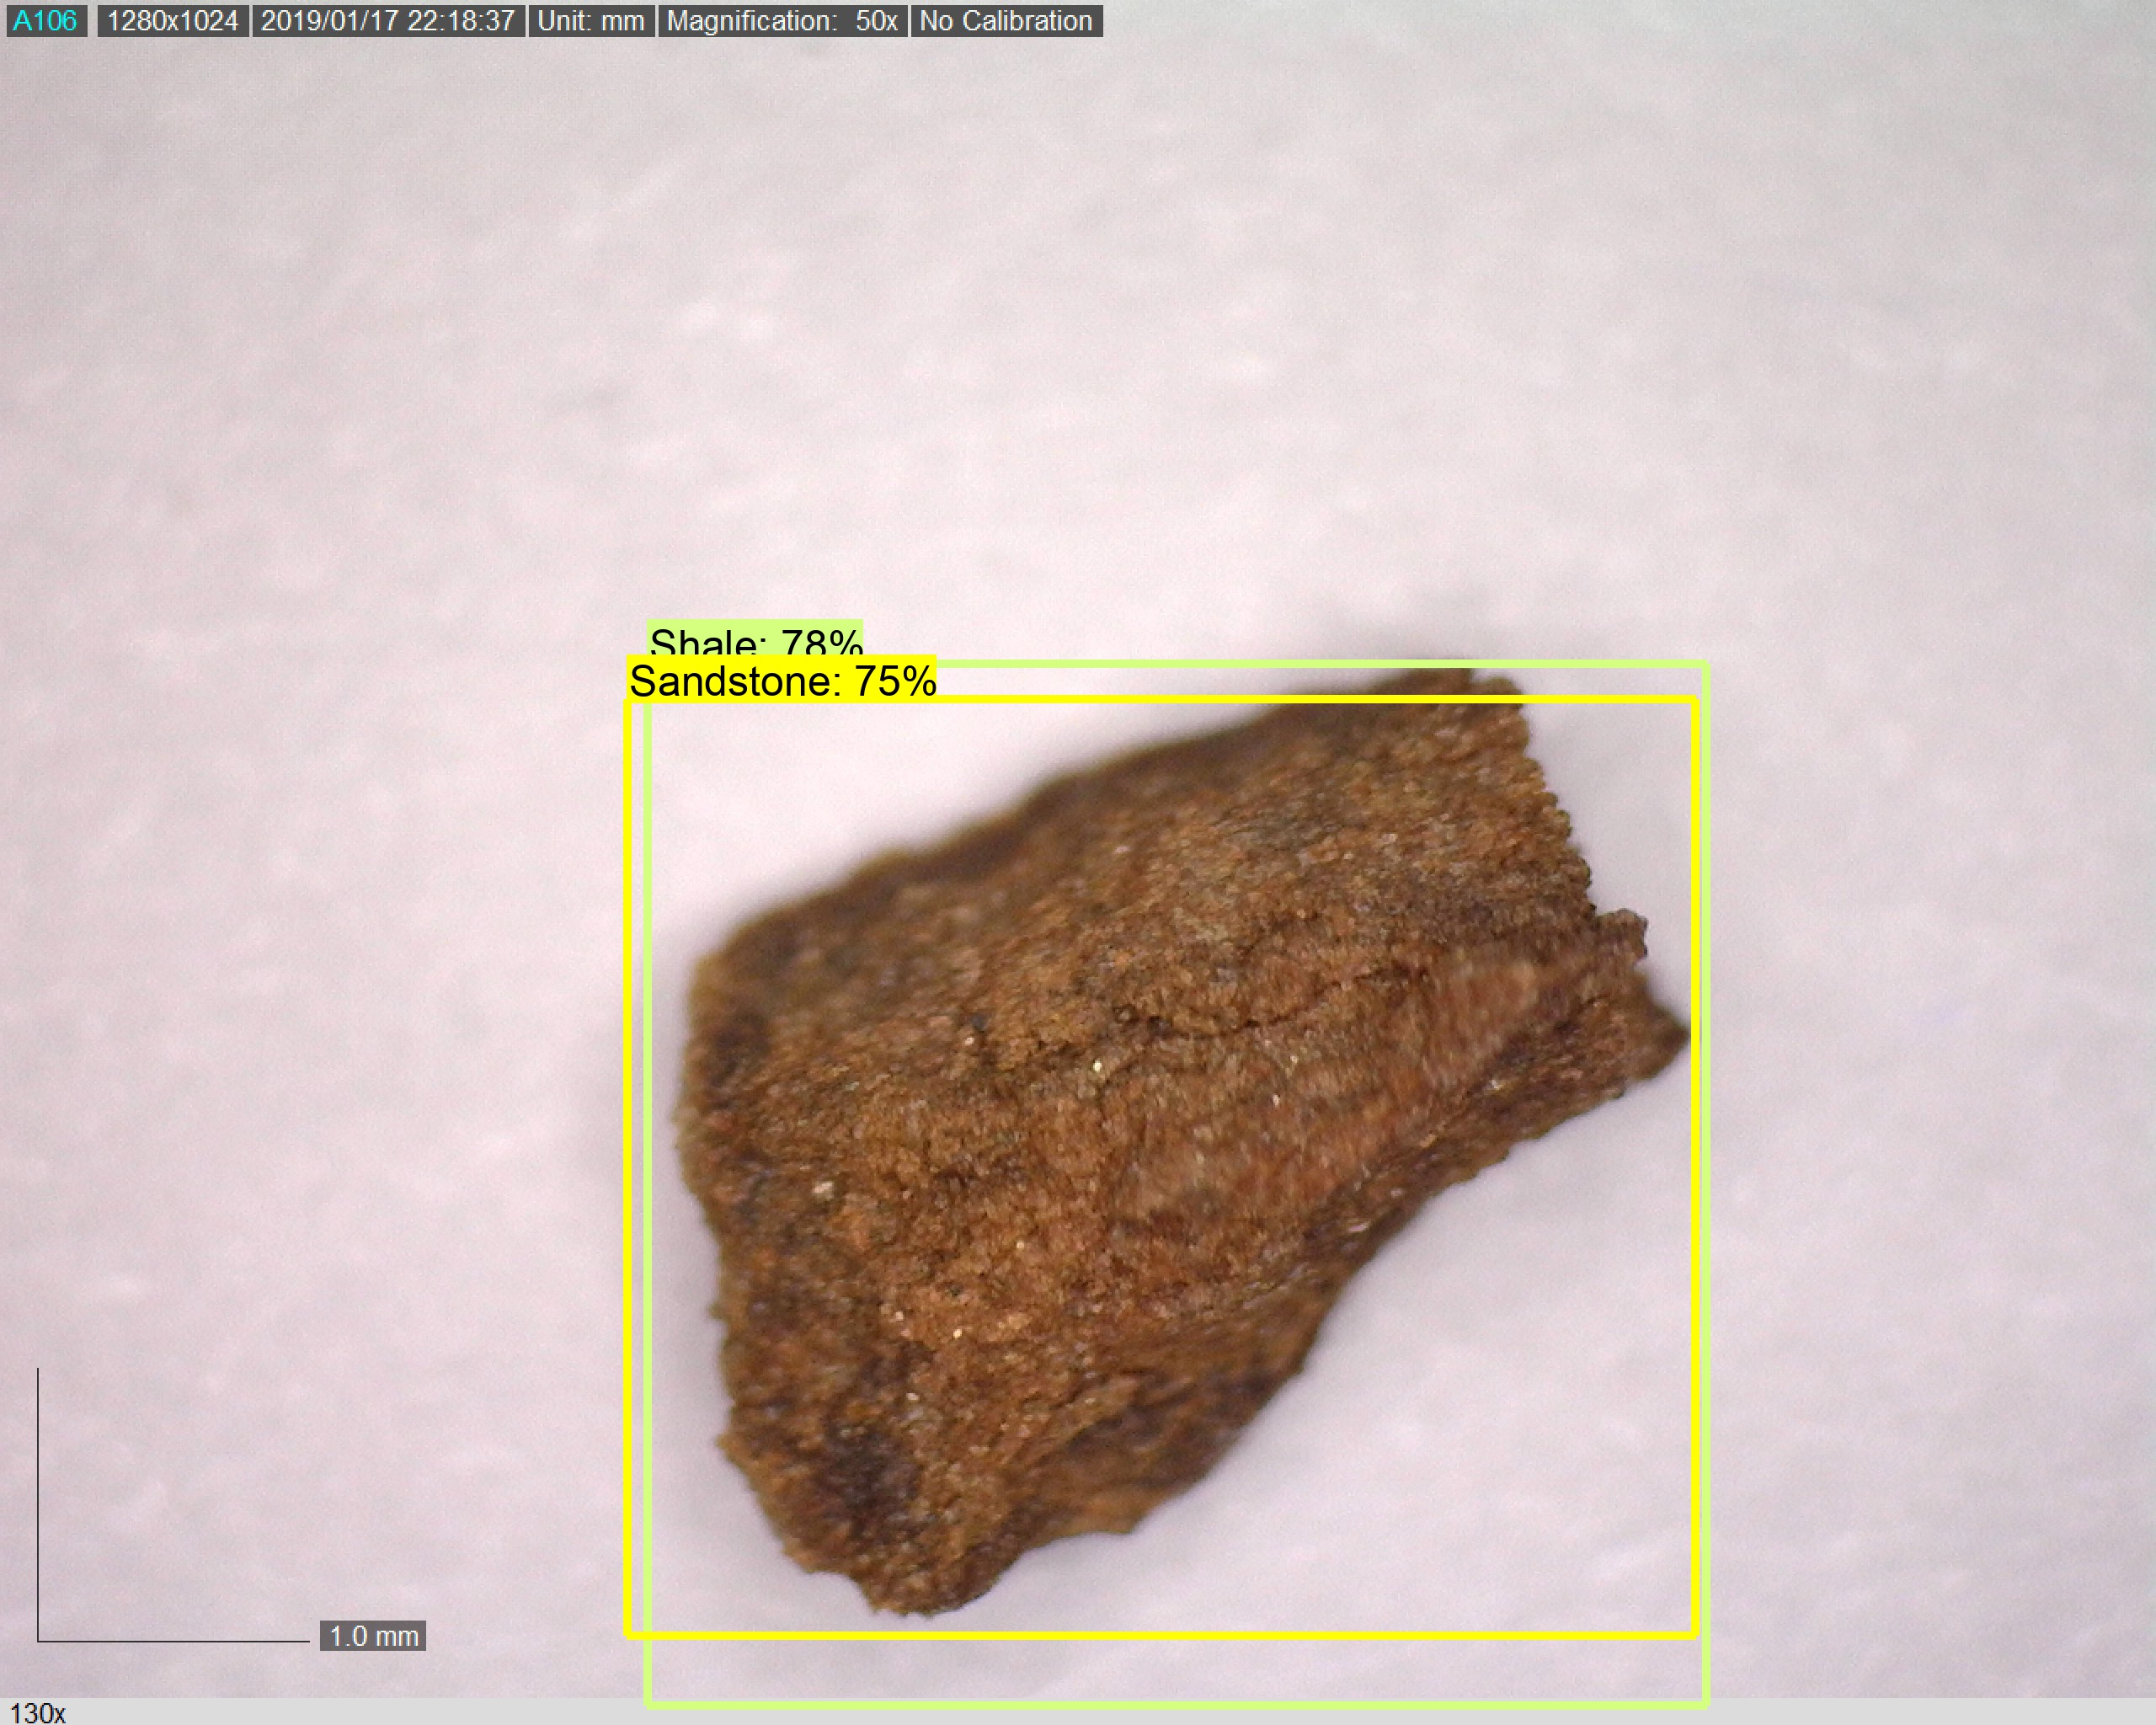Sandstone: (653, 653, 1709, 1641)
